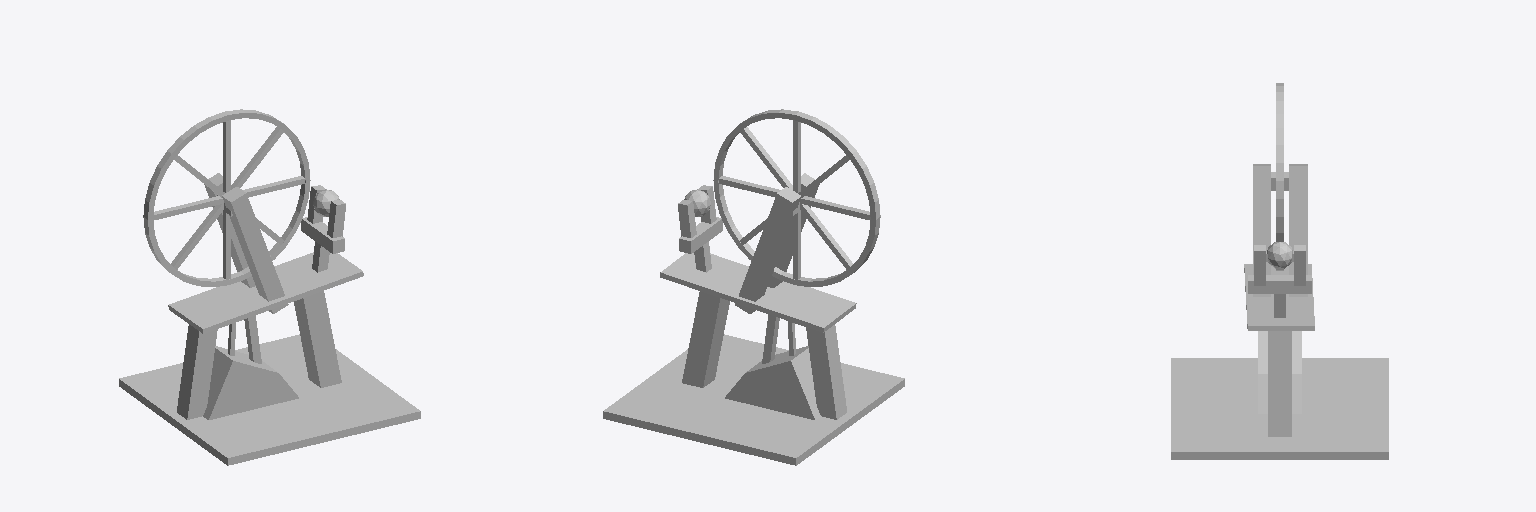
The model's file is spinning_wheel.obj.
3 views of the same model, side by side, from view 1: azimuth 30°, elevation 25°; view 2: azimuth 150°, elevation 25°; view 3: azimuth 270°, elevation 25° (orthographic).
Parts seen in each view (by area): view 1: treadle_bar_Cube.012, table_Cube.006, outside_Cylinder, treadle_Cube.013, leg4_Cube.010, leg1_Cube.007, leg3_Cube.011, spoke2_Cube.003, spoke1_Cube.002, spoke3_Cube.001, leg2_Cube.008, maiden_Cube.017 (+3 smaller); view 2: treadle_bar_Cube.012, table_Cube.006, outside_Cylinder, treadle_Cube.013, leg4_Cube.010, leg2_Cube.008, leg3_Cube.011, spoke2_Cube.003, spoke1_Cube.002, spoke3_Cube.001, leg1_Cube.007, maiden_Cube.017 (+3 smaller); view 3: treadle_bar_Cube.012, leg4_Cube.010, table_Cube.006, leg2_Cube.008, treadle_Cube.013, leg1_Cube.007, outside_Cylinder, maiden_Cube.017, flyer_Icosphere.
Boxes of the visible parts, x1=… form: treadle_bar_Cube.012: x1=119, y1=334, x2=420, y2=465; table_Cube.006: x1=168, y1=252, x2=363, y2=333; outside_Cylinder: x1=143, y1=109, x2=310, y2=286; treadle_Cube.013: x1=203, y1=346, x2=298, y2=419; leg4_Cube.010: x1=294, y1=291, x2=341, y2=387; leg1_Cube.007: x1=222, y1=187, x2=288, y2=313; leg3_Cube.011: x1=177, y1=324, x2=217, y2=419; spoke2_Cube.003: x1=171, y1=127, x2=283, y2=269; spoke1_Cube.002: x1=153, y1=176, x2=304, y2=219; spoke3_Cube.001: x1=223, y1=120, x2=230, y2=279; leg2_Cube.008: x1=204, y1=173, x2=255, y2=287; maiden_Cube.017: x1=301, y1=217, x2=344, y2=253; treadle_bar_Cube.012: x1=603, y1=334, x2=904, y2=465; table_Cube.006: x1=660, y1=253, x2=856, y2=332; outside_Cylinder: x1=713, y1=109, x2=880, y2=286; treadle_Cube.013: x1=725, y1=346, x2=820, y2=419; leg4_Cube.010: x1=682, y1=291, x2=729, y2=387; leg2_Cube.008: x1=735, y1=187, x2=801, y2=313; leg3_Cube.011: x1=806, y1=325, x2=846, y2=419; spoke2_Cube.003: x1=740, y1=127, x2=852, y2=269; spoke1_Cube.002: x1=719, y1=176, x2=870, y2=219; spoke3_Cube.001: x1=793, y1=120, x2=800, y2=279; leg1_Cube.007: x1=768, y1=173, x2=819, y2=287; maiden_Cube.017: x1=679, y1=217, x2=722, y2=253; treadle_bar_Cube.012: x1=1171, y1=358, x2=1388, y2=459; leg4_Cube.010: x1=1268, y1=331, x2=1291, y2=436; table_Cube.006: x1=1244, y1=264, x2=1314, y2=330; leg2_Cube.008: x1=1289, y1=164, x2=1307, y2=296; treadle_Cube.013: x1=1258, y1=331, x2=1301, y2=413; leg1_Cube.007: x1=1253, y1=164, x2=1270, y2=296; outside_Cylinder: x1=1276, y1=83, x2=1283, y2=270; maiden_Cube.017: x1=1248, y1=275, x2=1311, y2=293; flyer_Icosphere: x1=1267, y1=242, x2=1292, y2=268.
Bounding box in the file's own units: 1.14 × 1.48 × 0.9722.